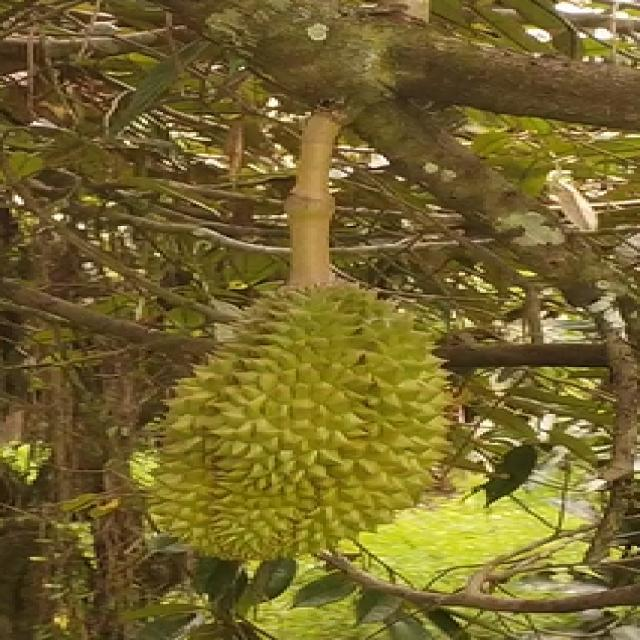immature: (130, 278, 458, 566)
